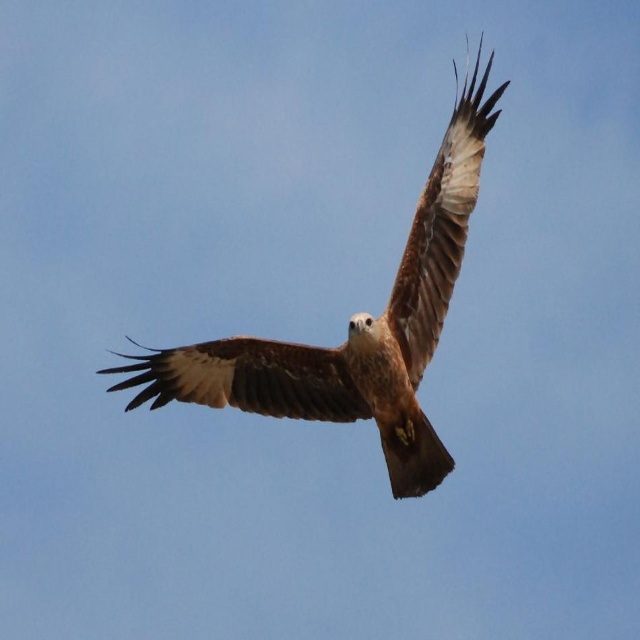Eagle: (94, 27, 512, 502)
